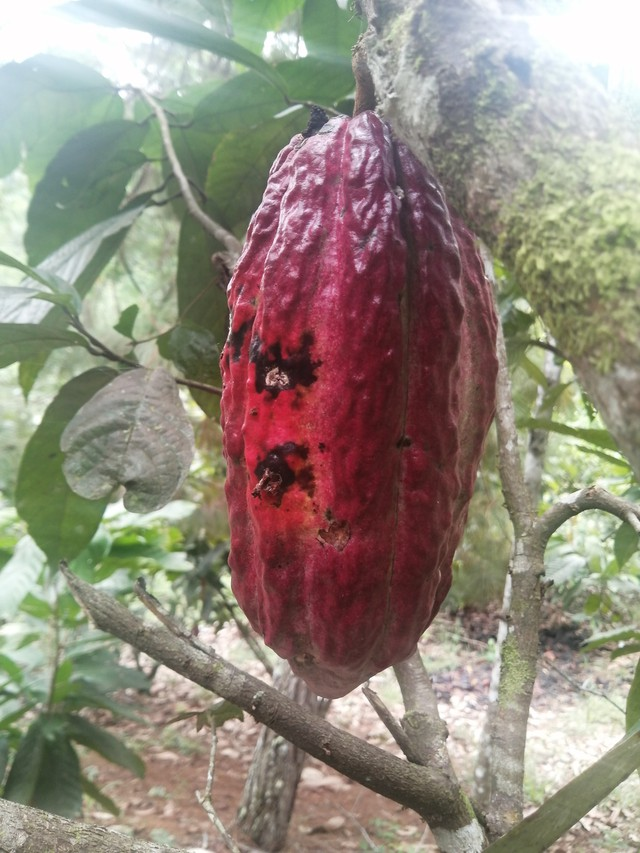carmenta foraseminis: (214, 94, 506, 707)
